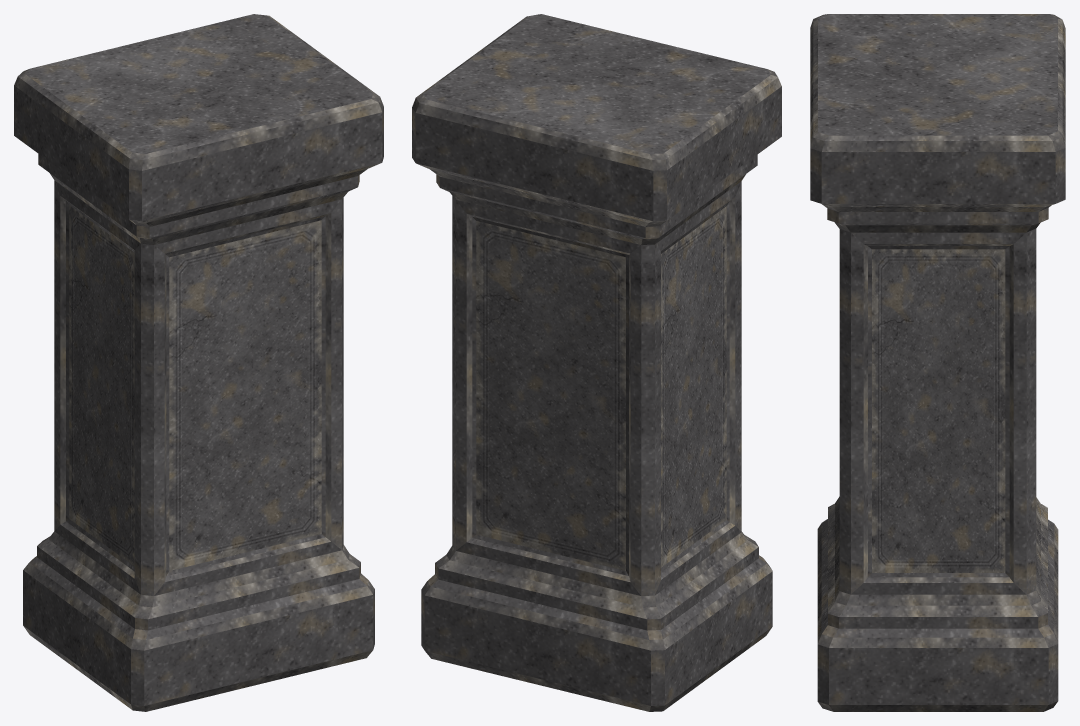
File: Plinth.fbx
3 views of the same model, side by side, from view 1: azimuth 30°, elevation 25°; view 2: azimuth 150°, elevation 25°; view 3: azimuth 270°, elevation 25° (orthographic). The views are drawn at different scales.
Parts seen in each view (by area): view 1: Plinth_LOD0; view 2: Plinth_LOD0; view 3: Plinth_LOD0.
Boxes of the visible parts, x1,y1,x2,y2 form: Plinth_LOD0: [14, 14, 383, 711]; Plinth_LOD0: [412, 14, 781, 711]; Plinth_LOD0: [810, 14, 1065, 711].
Size of what is drawn, in the model's own units: 0.43 by 0.9 by 0.36.
Materials: 1 (1 with a texture image).
